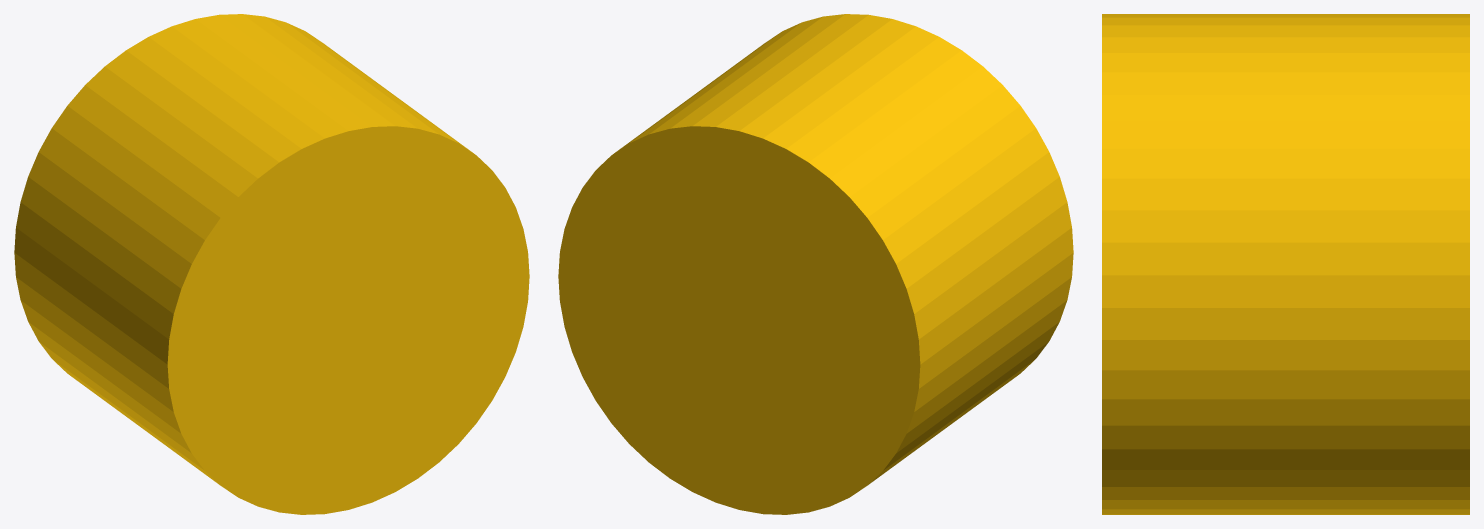
The model's file is FanucM20Link5.dae.
3 views of the same model, side by side, from view 1: azimuth 30°, elevation 25°; view 2: azimuth 150°, elevation 25°; view 3: azimuth 270°, elevation 25° (orthographic). The views are drawn at different scales.
Visible parts, largest first — view 1: Cylinder; view 2: Cylinder; view 3: Cylinder.
Boxes of the visible parts, x1=… form: Cylinder: x1=14, y1=14, x2=529, y2=514; Cylinder: x1=558, y1=14, x2=1073, y2=514; Cylinder: x1=1102, y1=14, x2=1469, y2=514.
Bounding box in the file's own units: 0.15 × 0.11 × 0.15.
